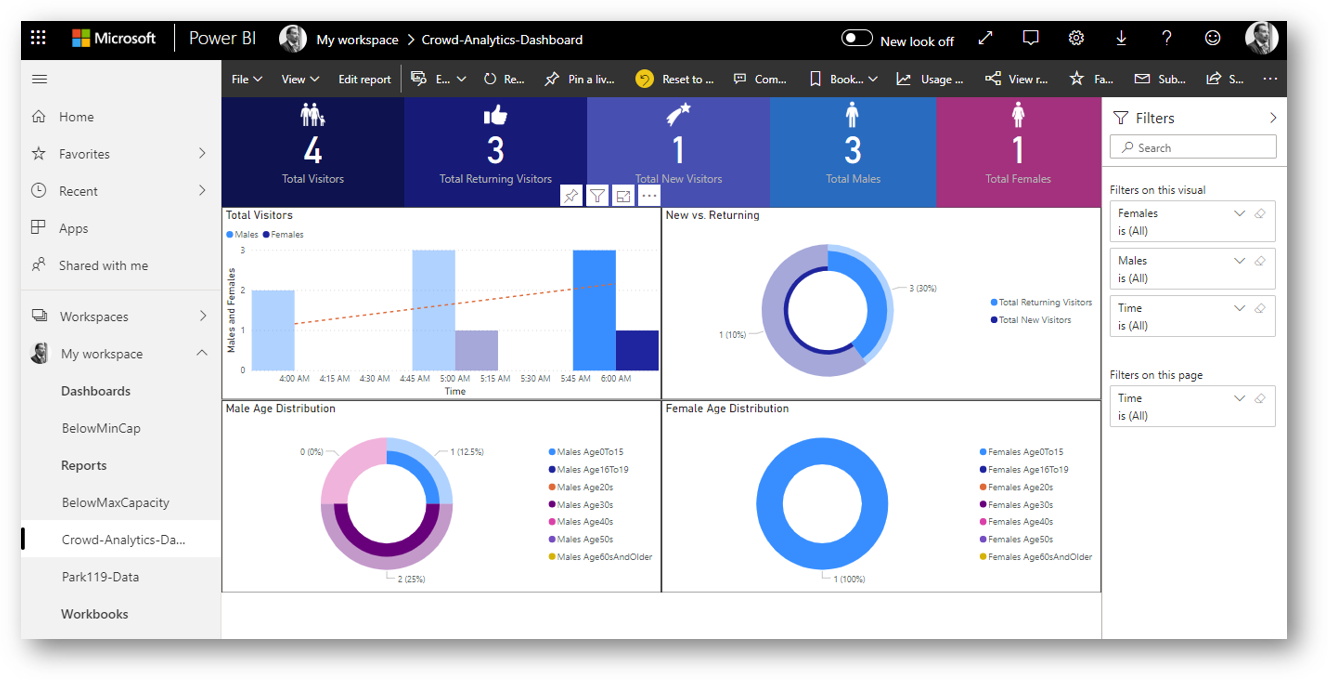

The page's visual inventory and layout, read from the dashboard file:
{"tool":"powerbi","page":{"name":"Crowd Analytics","canvas":[1280,720],"ordinal":0},"visuals":[{"type":"clusteredColumnChart","title":"Total Visitors","fields":{"Category":["crowd-demographics.Document.WindowStart Hierarchy.Document.WindowStart"],"Y":["Sum(crowd-demographics.Total Males)","Sum(crowd-demographics.Document.TotalFemales)"]},"box":[0,159.7,640,280.1],"z":0},{"type":"donutChart","title":"Female Age Distribution","fields":{"Y":["Sum(crowd-demographics.Females Age0To15)","Sum(crowd-demographics.Females Age16To19)","Sum(crowd-demographics.Females Age20s)","Sum(crowd-demographics.Females Age30s)","Sum(crowd-demographics.Females Age40s)","Sum(crowd-demographics.Females Age50s)","Sum(crowd-demographics.Females Age60sAndOlder)"]},"box":[640,439.8,640,280.1],"z":1000},{"type":"donutChart","title":"Male Age Distribution","fields":{"Y":["Sum(crowd-demographics.Males Age0To15)","Sum(crowd-demographics.Males Age16To19)","Sum(crowd-demographics.Males Age20s)","Sum(crowd-demographics.Males Age30s)","Sum(crowd-demographics.Males Age40s)","Sum(crowd-demographics.Males Age50s)","Sum(crowd-demographics.Males Age60sAndOlder)"]},"box":[0,439.8,640,280.1],"z":2000},{"type":"donutChart","title":"New vs. Returning","fields":{"Y":["Sum(crowd-demographics.Total Returning Visitors)","Sum(crowd-demographics.Total New Visitors)"]},"box":[640,159.7,640,280.1],"z":3000},{"type":"card","fields":{"Values":["Sum(crowd-demographics.Total Females)"]},"box":[1038.1,0,241.9,159.7],"z":4000},{"type":"card","fields":{"Values":["Sum(crowd-demographics.Total Returning Visitors)"]},"box":[265.8,0,265.8,159.7],"z":5000},{"type":"card","fields":{"Values":["Sum(crowd-demographics.Total New Visitors)"]},"box":[531.5,0,265.8,159.7],"z":6000},{"type":"card","fields":{"Values":["Sum(crowd-demographics.Total Visitors)"]},"box":[0,0,265.8,159.7],"z":7000},{"type":"card","fields":{"Values":["Sum(crowd-demographics.Total Males)"]},"box":[797.3,0,241.9,159.7],"z":8000},{"type":"image","box":[107.6,0,50.2,50.2],"z":9000},{"type":"image","box":[374.1,0,50.2,50.2],"z":9001},{"type":"image","box":[639.4,0,50.2,50.2],"z":9002},{"type":"image","box":[892.8,0,50.2,50.2],"z":9003},{"type":"image","box":[1134.2,0,50.2,50.2],"z":9004}]}

Visuals, with their boxes on the page's 1280x720 design canvas (x1, y1, x2, y2). These are canvas units, not pixel positions in the 1328x680 screenshot, which may show the page scaled, cropped or inside an application window:
"Total Visitors" clusteredColumnChart: (left=0, top=160, right=640, bottom=440)
"Female Age Distribution" donutChart: (left=640, top=440, right=1280, bottom=720)
"Male Age Distribution" donutChart: (left=0, top=440, right=640, bottom=720)
"New vs. Returning" donutChart: (left=640, top=160, right=1280, bottom=440)
card - Sum(crowd-demographics.Total Females): (left=1038, top=0, right=1280, bottom=160)
card - Sum(crowd-demographics.Total Returning Visitors): (left=266, top=0, right=532, bottom=160)
card - Sum(crowd-demographics.Total New Visitors): (left=532, top=0, right=797, bottom=160)
card - Sum(crowd-demographics.Total Visitors): (left=0, top=0, right=266, bottom=160)
card - Sum(crowd-demographics.Total Males): (left=797, top=0, right=1039, bottom=160)
image: (left=108, top=0, right=158, bottom=50)
image: (left=374, top=0, right=424, bottom=50)
image: (left=639, top=0, right=690, bottom=50)
image: (left=893, top=0, right=943, bottom=50)
image: (left=1134, top=0, right=1184, bottom=50)
